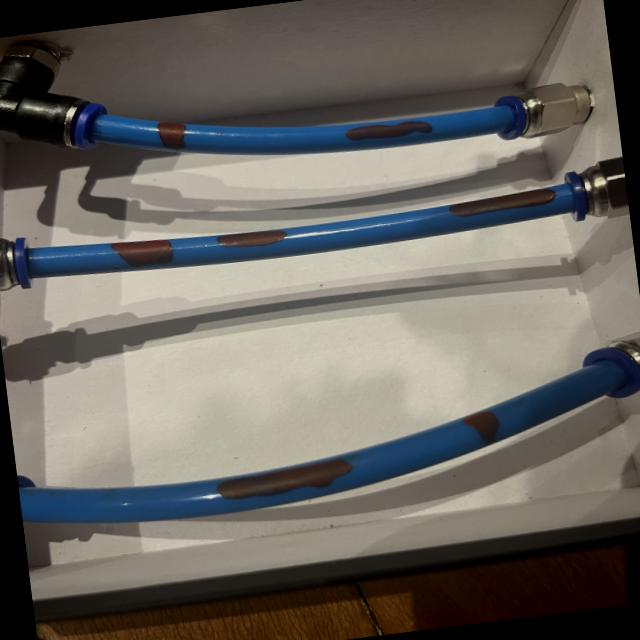hose_damage: (212, 455, 358, 506), (446, 183, 560, 220), (343, 116, 439, 146), (106, 233, 176, 274), (213, 224, 291, 252), (461, 403, 502, 448), (156, 118, 192, 154)
